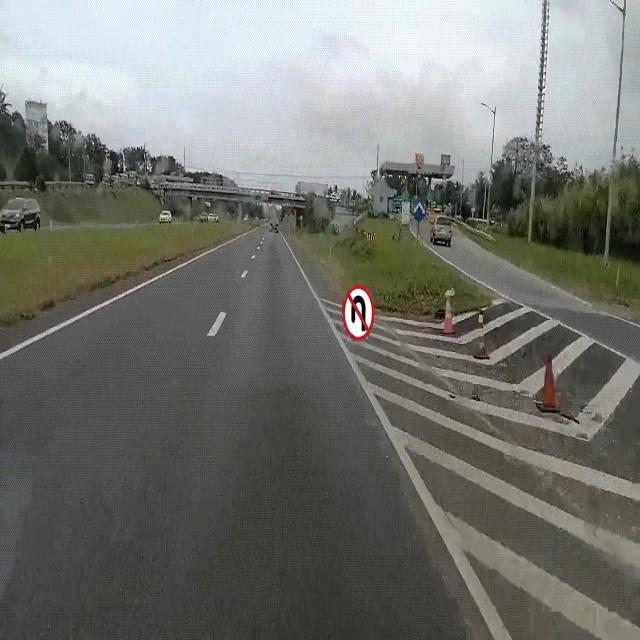Demi-Tour-Interdit: (340, 274, 376, 348)
